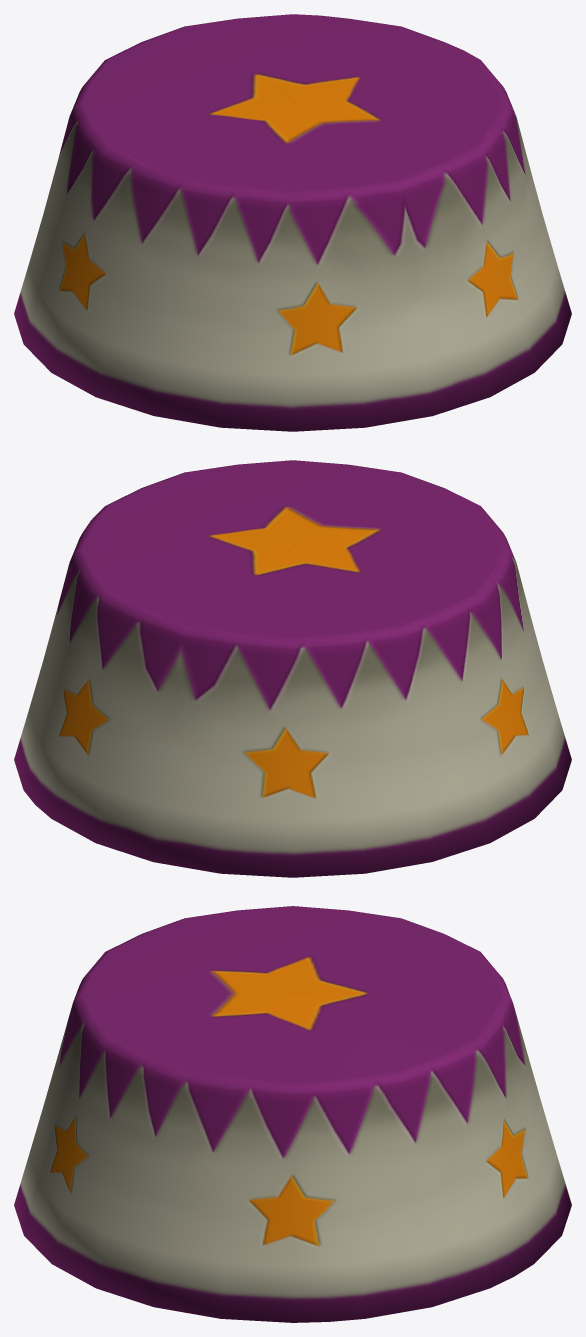
Rendered from PodiumStep.fbx.
The picture shows the model from 3 angles, top to bottom: view 1: azimuth 30°, elevation 25°; view 2: azimuth 150°, elevation 25°; view 3: azimuth 270°, elevation 25°; orthographic projection.
Visible parts, largest first — view 1: PodiumStep2; view 2: PodiumStep2; view 3: PodiumStep2.
Part boxes in pixels (x1,y1,x2,y2): PodiumStep2: [14, 14, 571, 431]; PodiumStep2: [14, 460, 571, 877]; PodiumStep2: [14, 906, 571, 1322].
Bounding box in the file's own units: 6.53 × 2.75 × 6.54.
